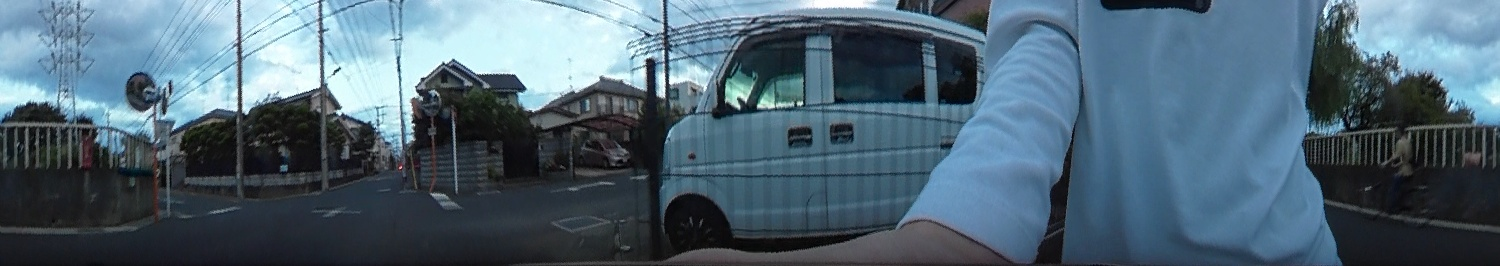person: (1384, 122, 1419, 223)
